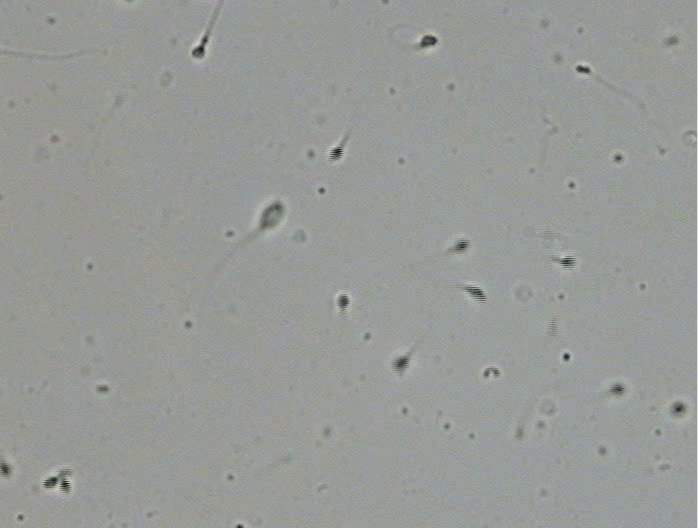S: (260, 202, 284, 229), (465, 285, 486, 303), (560, 255, 577, 269), (392, 357, 409, 370), (420, 35, 438, 47), (42, 476, 58, 489), (59, 478, 72, 494), (329, 146, 343, 160), (454, 239, 469, 252), (192, 45, 205, 59), (337, 294, 349, 309), (610, 383, 625, 395), (672, 402, 685, 414), (1, 461, 11, 476), (576, 64, 590, 74)
